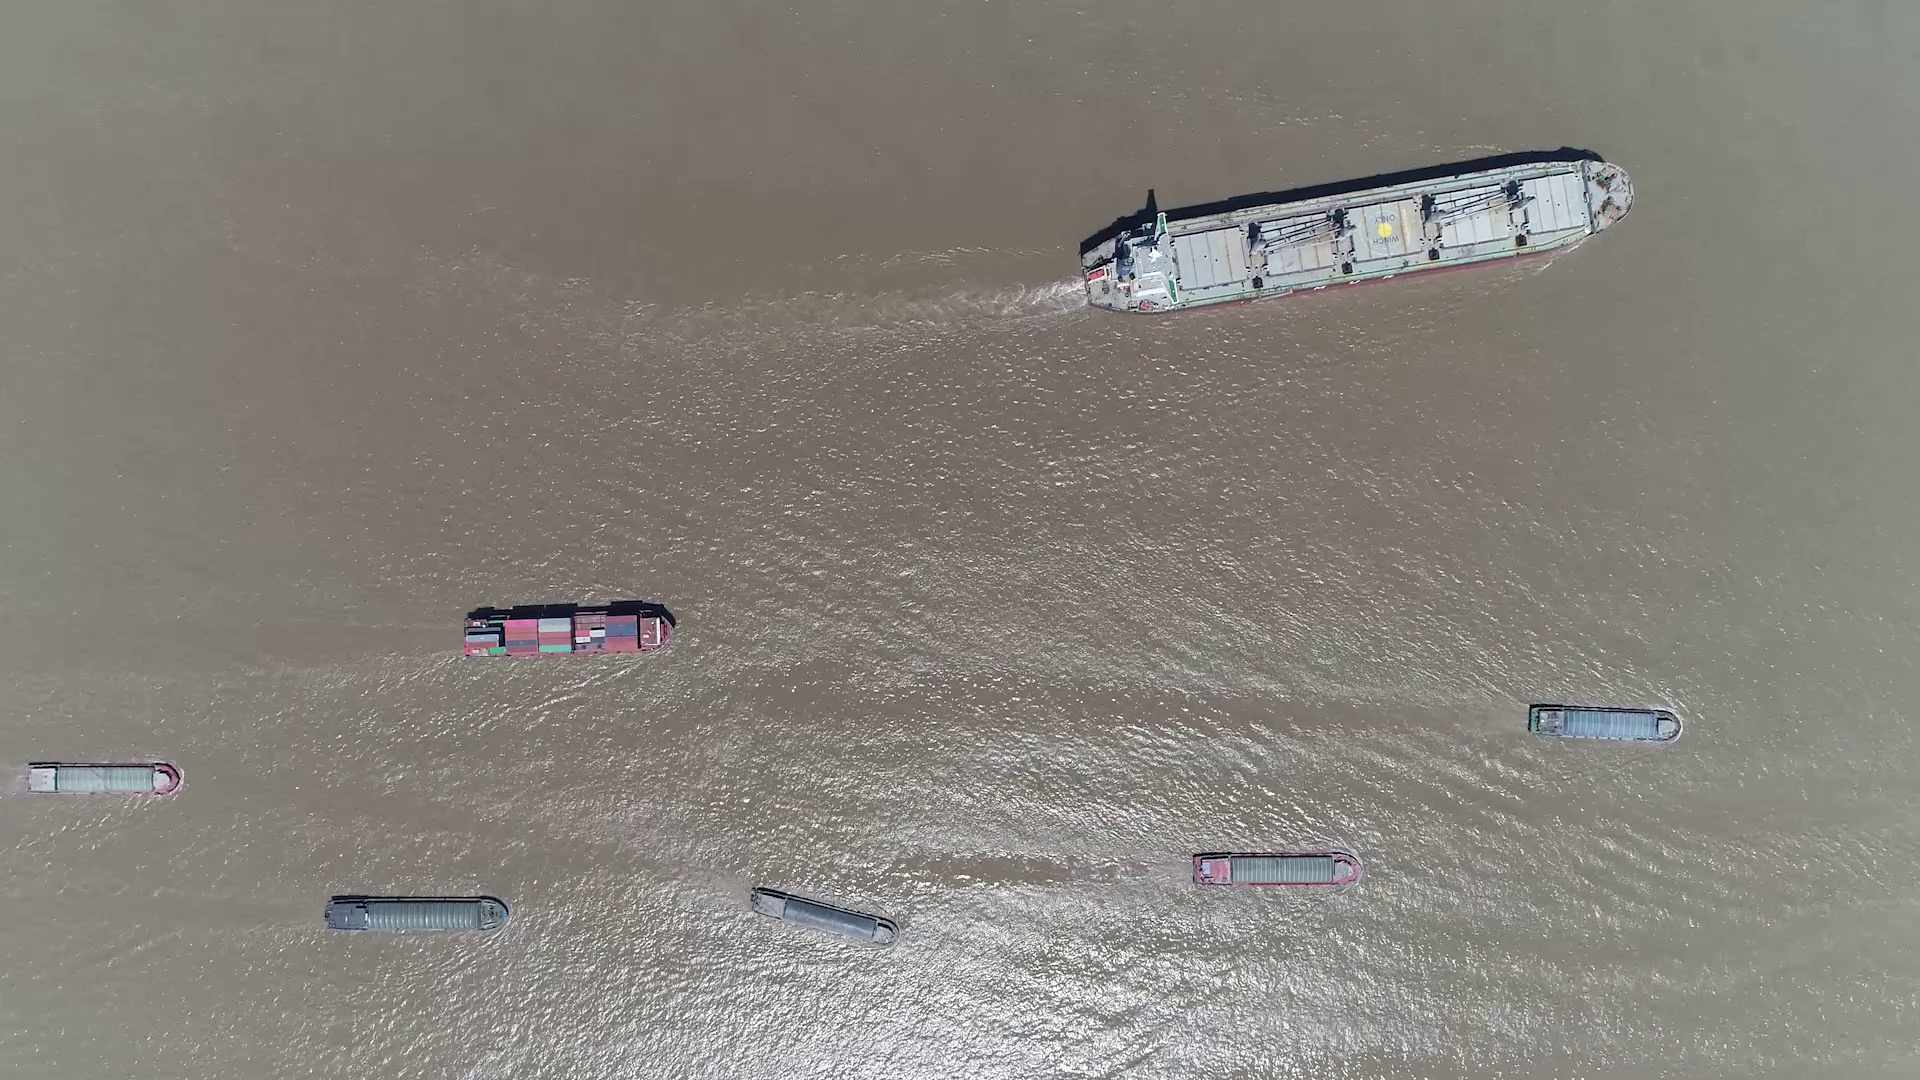ship: (1076, 161, 1635, 313), (463, 607, 676, 658), (749, 887, 901, 943), (322, 895, 506, 932), (1527, 703, 1681, 742), (1193, 852, 1361, 887), (24, 761, 179, 796)
